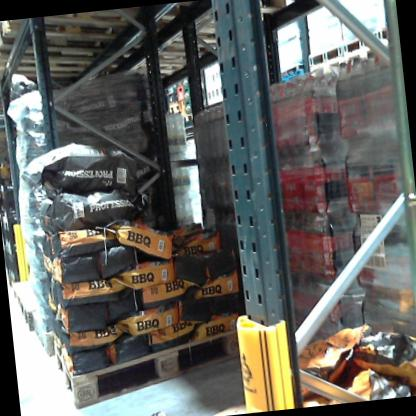pallet: (54, 285, 271, 416), (0, 27, 145, 92), (0, 7, 148, 51), (339, 25, 396, 57), (16, 286, 48, 339), (339, 39, 390, 67), (32, 312, 60, 360), (9, 275, 50, 307), (303, 40, 344, 69), (305, 56, 346, 76), (279, 60, 305, 77)
